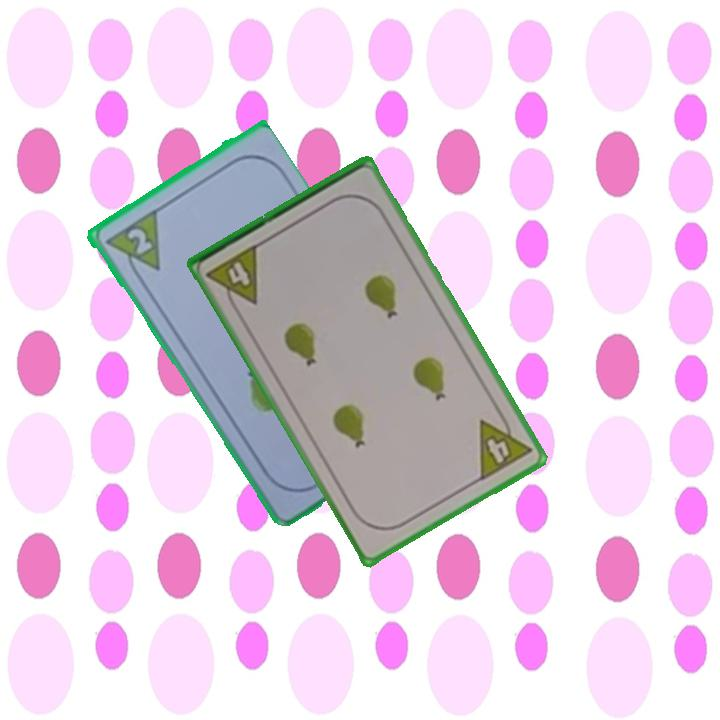2p: (100, 206, 163, 284)
4p: (475, 406, 535, 484), (203, 240, 262, 316)
